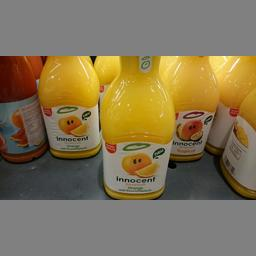juice: (99, 55, 176, 198), (36, 55, 100, 159), (162, 55, 218, 161), (0, 56, 47, 163)
